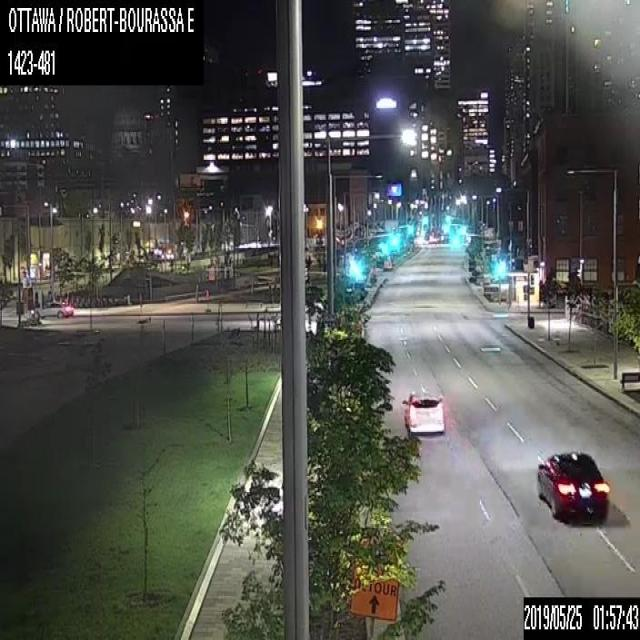construction: (350, 541, 403, 639)
vehicle: (537, 451, 610, 525), (401, 389, 444, 434), (31, 298, 73, 318)
